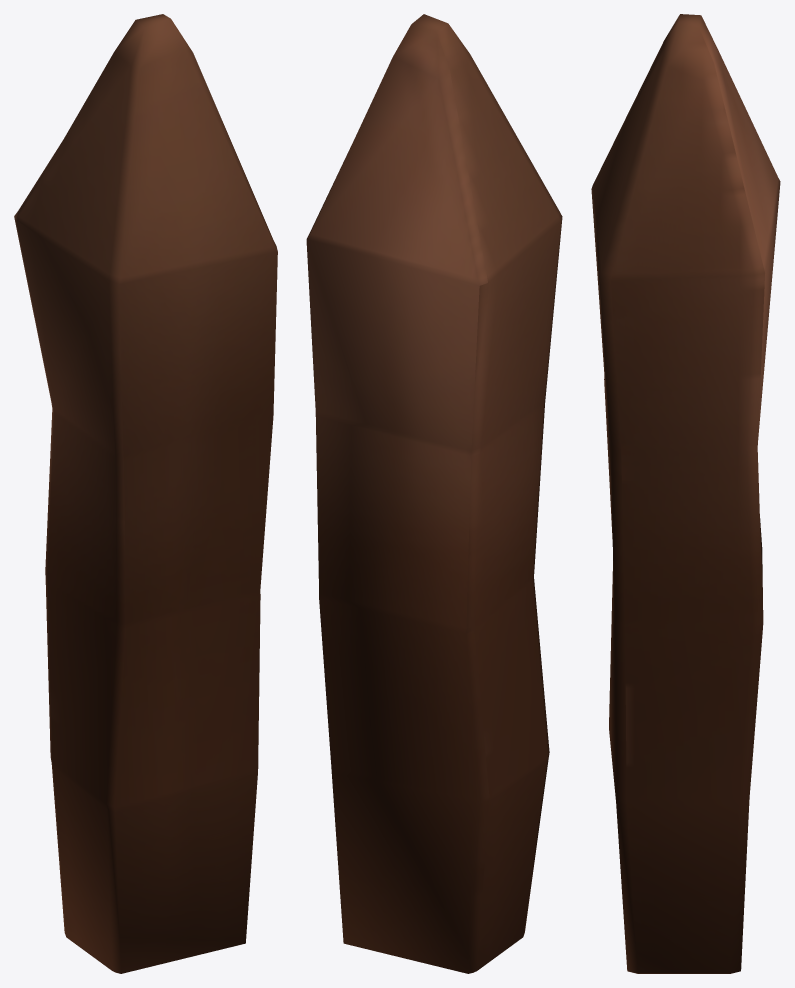
Rendered from FenceColumn.fbx.
3 views of the same model, side by side, from view 1: azimuth 30°, elevation 25°; view 2: azimuth 150°, elevation 25°; view 3: azimuth 270°, elevation 25° (orthographic).
Visible parts, largest first — view 1: FenceColumn; view 2: FenceColumn; view 3: FenceColumn.
Boxes of the visible parts, left/top/right/bottom form: FenceColumn: left=14, top=14, right=277, bottom=973; FenceColumn: left=306, top=14, right=562, bottom=973; FenceColumn: left=591, top=14, right=780, bottom=973.
Bounding box in the file's own units: 24.91 × 117 × 21.7.
